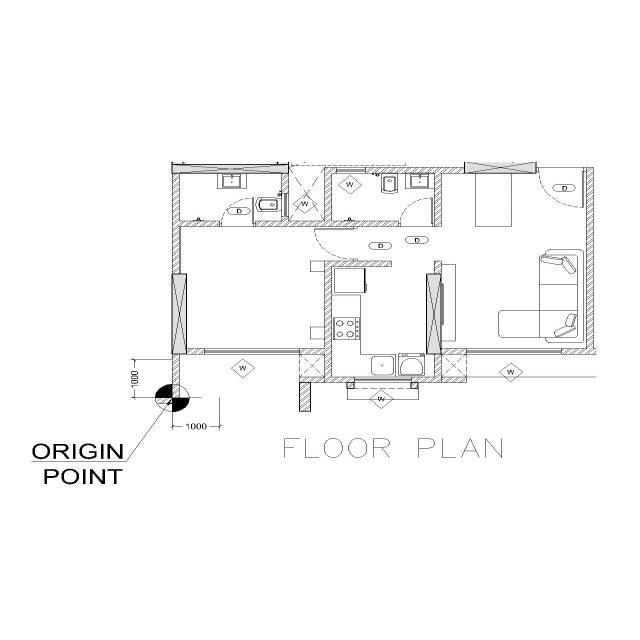Column: (168, 160, 292, 177), (170, 272, 190, 356), (424, 272, 444, 356), (461, 160, 539, 176)
Door: (535, 165, 587, 172), (396, 220, 436, 229), (350, 225, 360, 261), (217, 220, 259, 228)
Opening: (390, 260, 436, 268)
Window: (463, 346, 567, 357), (202, 347, 304, 356), (350, 376, 414, 384), (334, 165, 368, 176), (280, 192, 292, 218)
